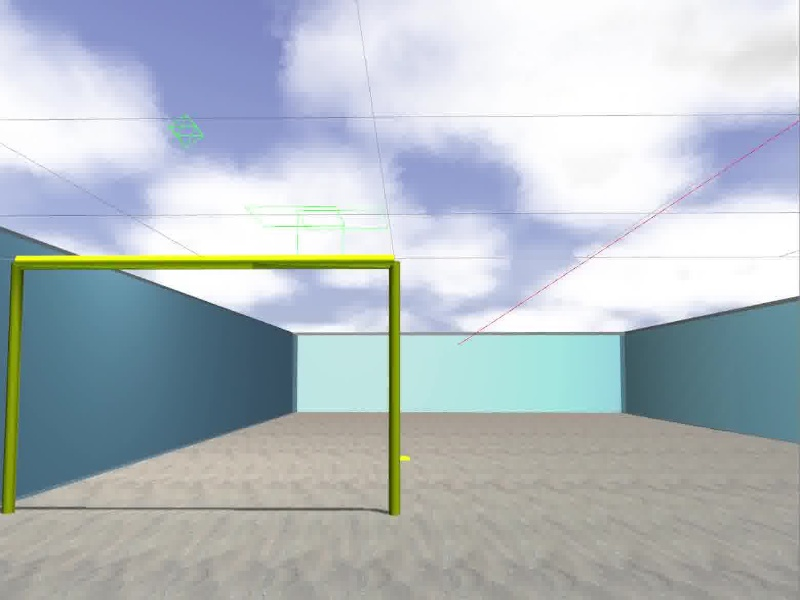gate: (5, 253, 403, 510)
